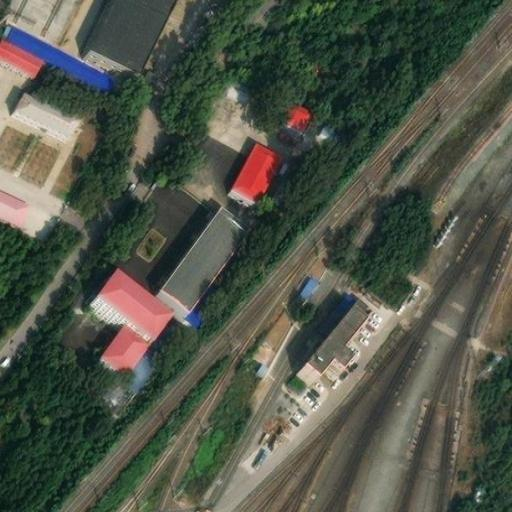building: (164, 201, 253, 301), (86, 0, 174, 69), (95, 260, 174, 332), (299, 306, 359, 375), (14, 85, 80, 134), (99, 312, 154, 369), (235, 132, 284, 192), (274, 88, 313, 128), (217, 74, 254, 106), (0, 182, 28, 222), (293, 271, 320, 302), (311, 117, 339, 144)
